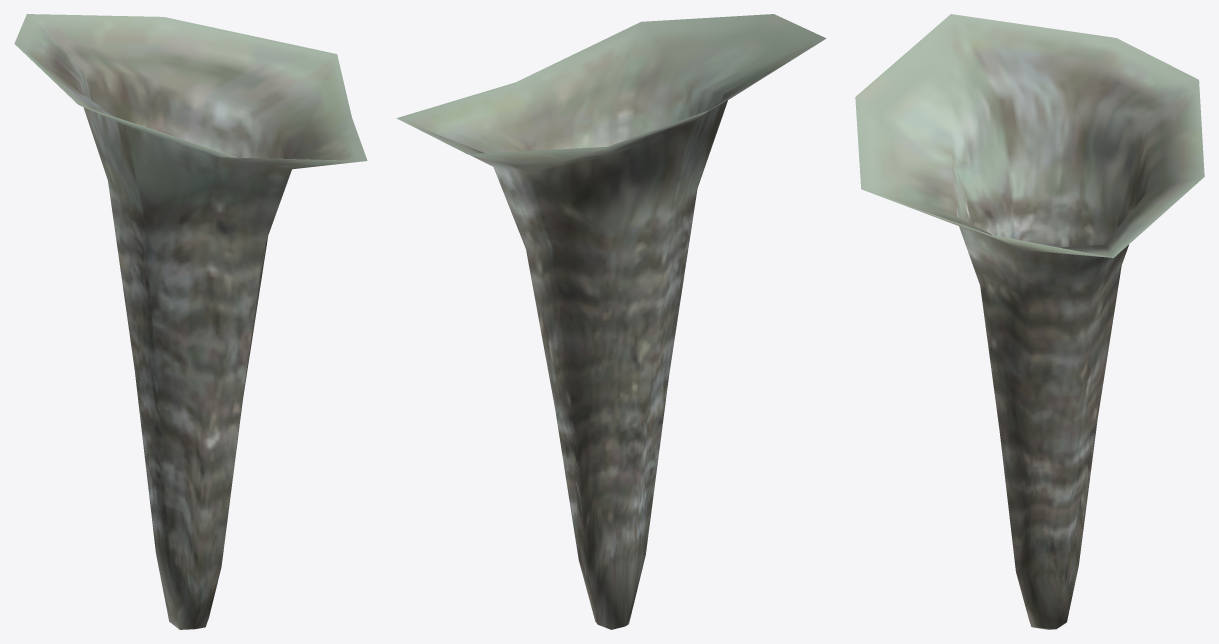
The model's file is TROLLHOLE02_PS-MAINSTALAG05.fbx.
3 renders of one model, left to right at view 1: azimuth 30°, elevation 25°; view 2: azimuth 150°, elevation 25°; view 3: azimuth 270°, elevation 25°, orthographic. The views are drawn at different scales.
Parts seen in each view (by area): view 1: TROLLHOLE02_PS-MAINSTALAG05; view 2: TROLLHOLE02_PS-MAINSTALAG05; view 3: TROLLHOLE02_PS-MAINSTALAG05.
Boxes of the visible parts, x1,y1,x2,y2 form: TROLLHOLE02_PS-MAINSTALAG05: (14, 14, 367, 629); TROLLHOLE02_PS-MAINSTALAG05: (396, 14, 826, 629); TROLLHOLE02_PS-MAINSTALAG05: (855, 14, 1204, 629).
Bounding box in the file's own units: 23442 × 38726 × 22553.
1 material, 1 textured.
